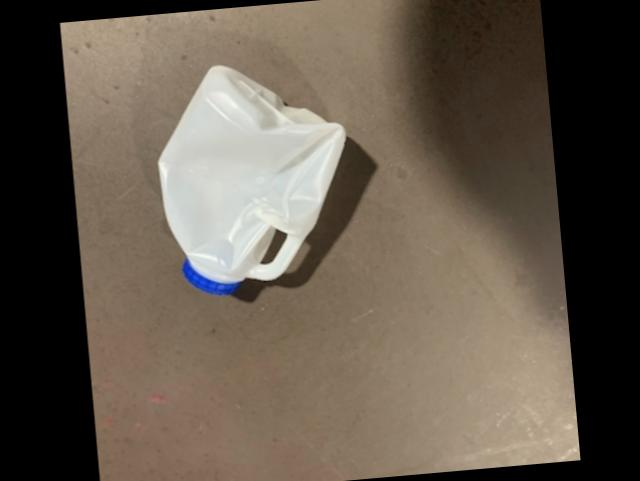plastic: (160, 62, 346, 291)
